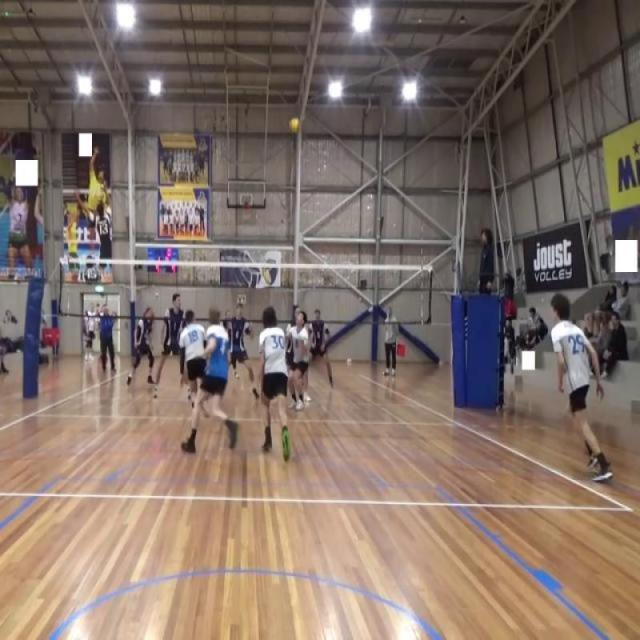volleyball: (288, 118, 300, 132)
